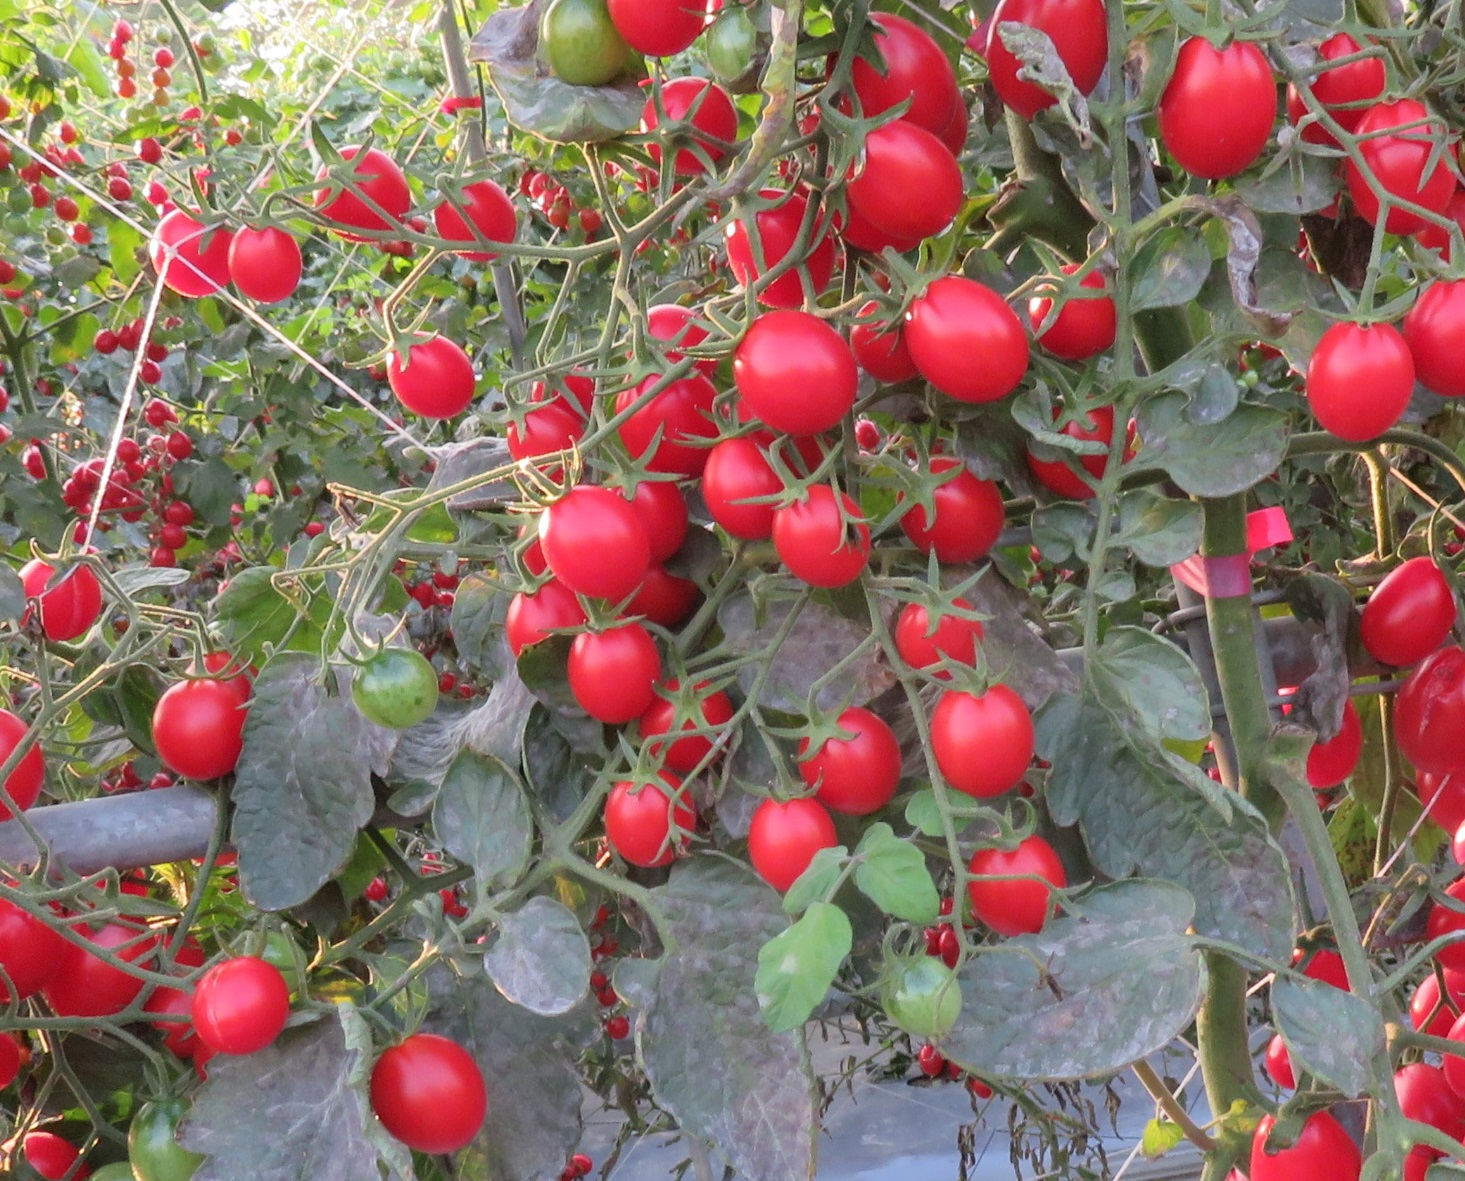green: (351, 644, 442, 734), (700, 1, 777, 100), (881, 954, 964, 1042), (125, 1094, 192, 1181), (539, 2, 608, 83), (8, 142, 31, 178), (1, 208, 28, 237), (42, 224, 71, 249), (7, 183, 33, 208), (387, 47, 408, 74), (195, 28, 216, 55), (151, 24, 173, 47), (120, 102, 140, 124), (140, 96, 157, 118), (416, 58, 435, 76)
orange: (114, 76, 139, 101), (111, 59, 137, 78), (149, 69, 172, 89)
red: (828, 8, 970, 155), (832, 122, 964, 252), (1161, 33, 1271, 184), (732, 311, 860, 439), (357, 1033, 486, 1152), (982, 1, 1110, 119), (611, 356, 732, 478), (1299, 313, 1416, 441), (905, 275, 1026, 396), (45, 900, 157, 1026), (535, 484, 653, 598), (931, 674, 1032, 805), (1028, 392, 1135, 500), (899, 453, 1002, 562), (639, 74, 742, 176), (1357, 562, 1458, 666), (799, 713, 905, 812), (1028, 262, 1120, 369), (571, 619, 661, 725), (311, 143, 413, 235), (607, 768, 696, 872), (149, 672, 239, 776), (192, 966, 286, 1063), (1, 868, 70, 998), (1251, 1105, 1367, 1181), (376, 331, 478, 417), (1384, 1057, 1465, 1163), (386, 329, 478, 421), (14, 551, 104, 646), (148, 202, 234, 301), (892, 594, 986, 683), (777, 487, 861, 584), (433, 174, 517, 268), (698, 441, 772, 545), (753, 789, 832, 885), (505, 403, 588, 484), (228, 216, 307, 301), (1, 709, 51, 828), (604, 1, 708, 57), (18, 1129, 90, 1181), (1, 1028, 20, 1091), (163, 497, 196, 529), (916, 1042, 945, 1080), (108, 437, 145, 466), (165, 425, 193, 463), (154, 519, 187, 551), (146, 544, 178, 575), (600, 1013, 633, 1045), (104, 172, 134, 206), (51, 192, 81, 224), (134, 356, 163, 387), (853, 418, 882, 450), (361, 872, 387, 907), (88, 327, 118, 356), (135, 136, 163, 168), (27, 181, 53, 212), (143, 180, 170, 207), (27, 447, 48, 478), (55, 116, 80, 143), (576, 205, 600, 233), (971, 1075, 994, 1101), (153, 46, 176, 69), (71, 225, 93, 249), (111, 18, 133, 41), (107, 36, 127, 61), (570, 1153, 594, 1173), (1, 255, 16, 287), (599, 987, 620, 1006), (226, 123, 245, 146)
